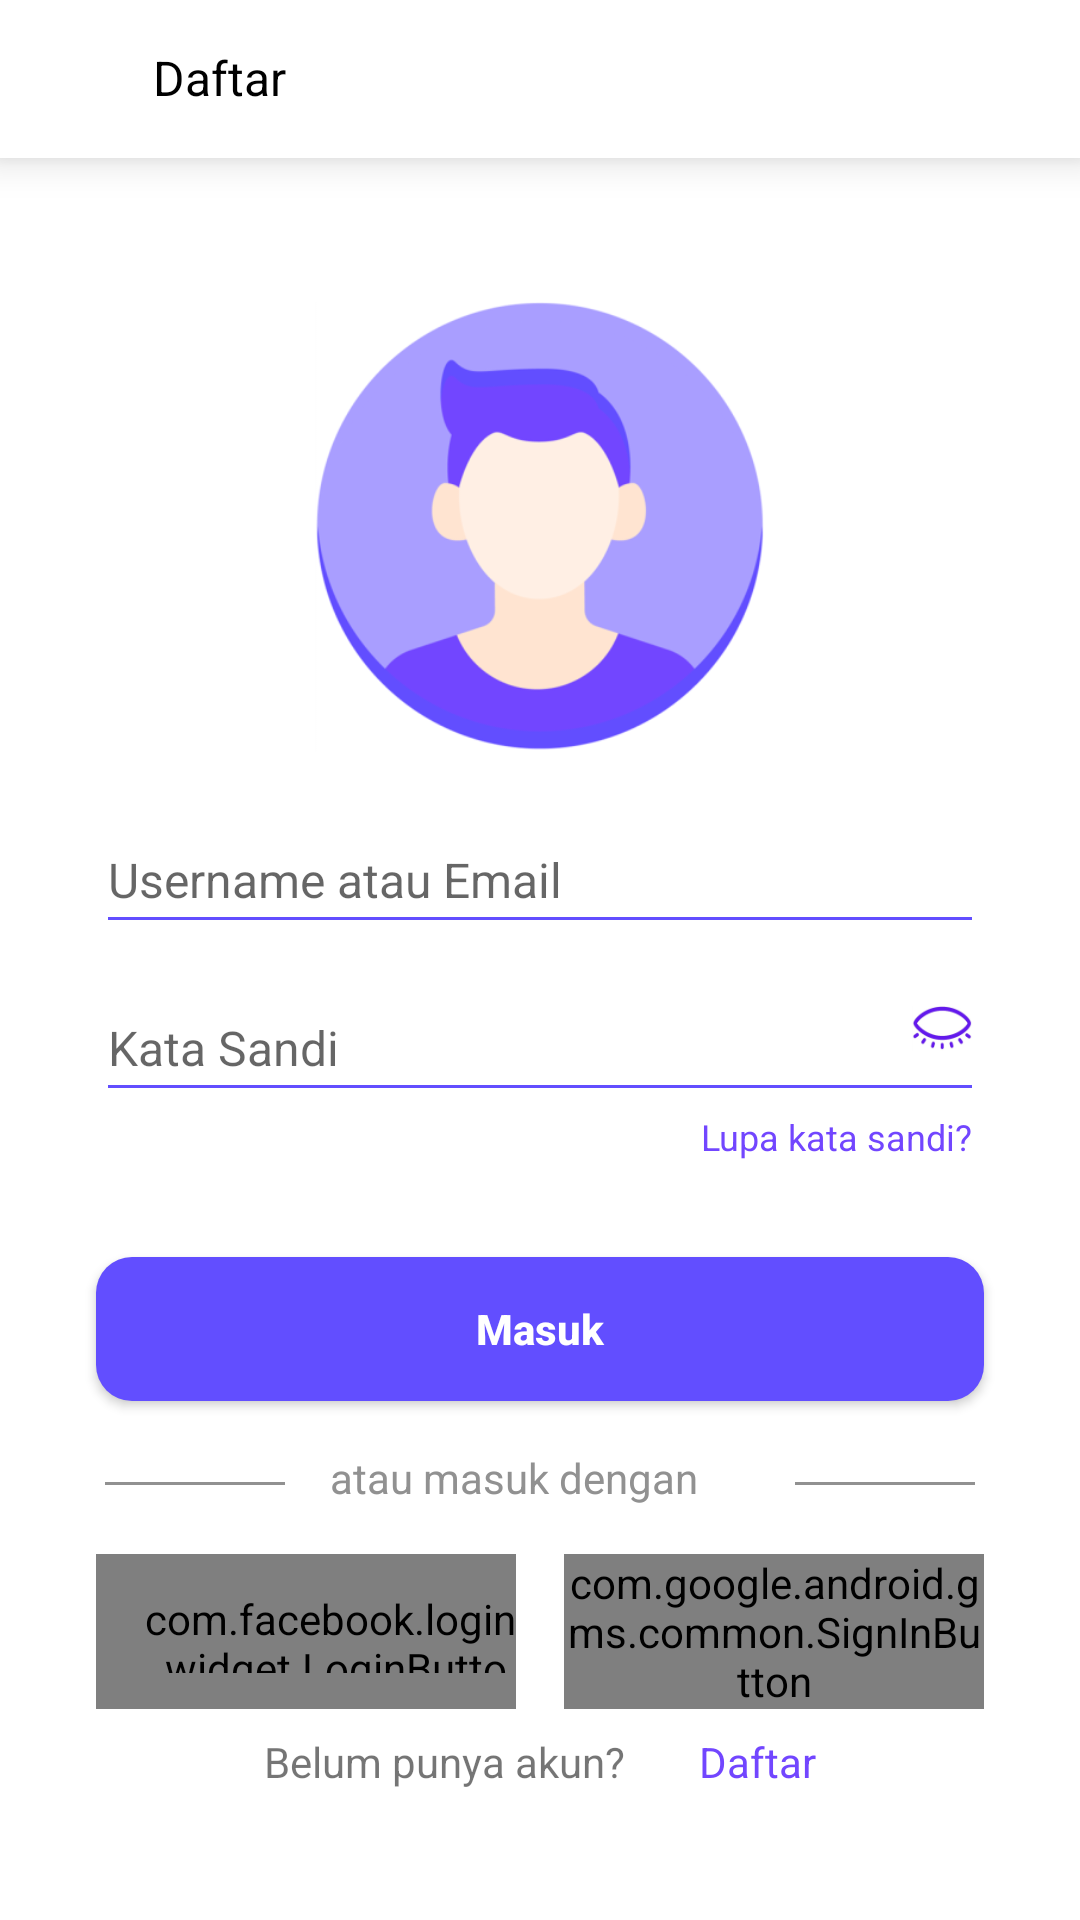

Screen size 1080*1920. Icon name, then its box in pixels as (x1, y1, x2, y2):
matanutup: (913, 1006, 971, 1050)
